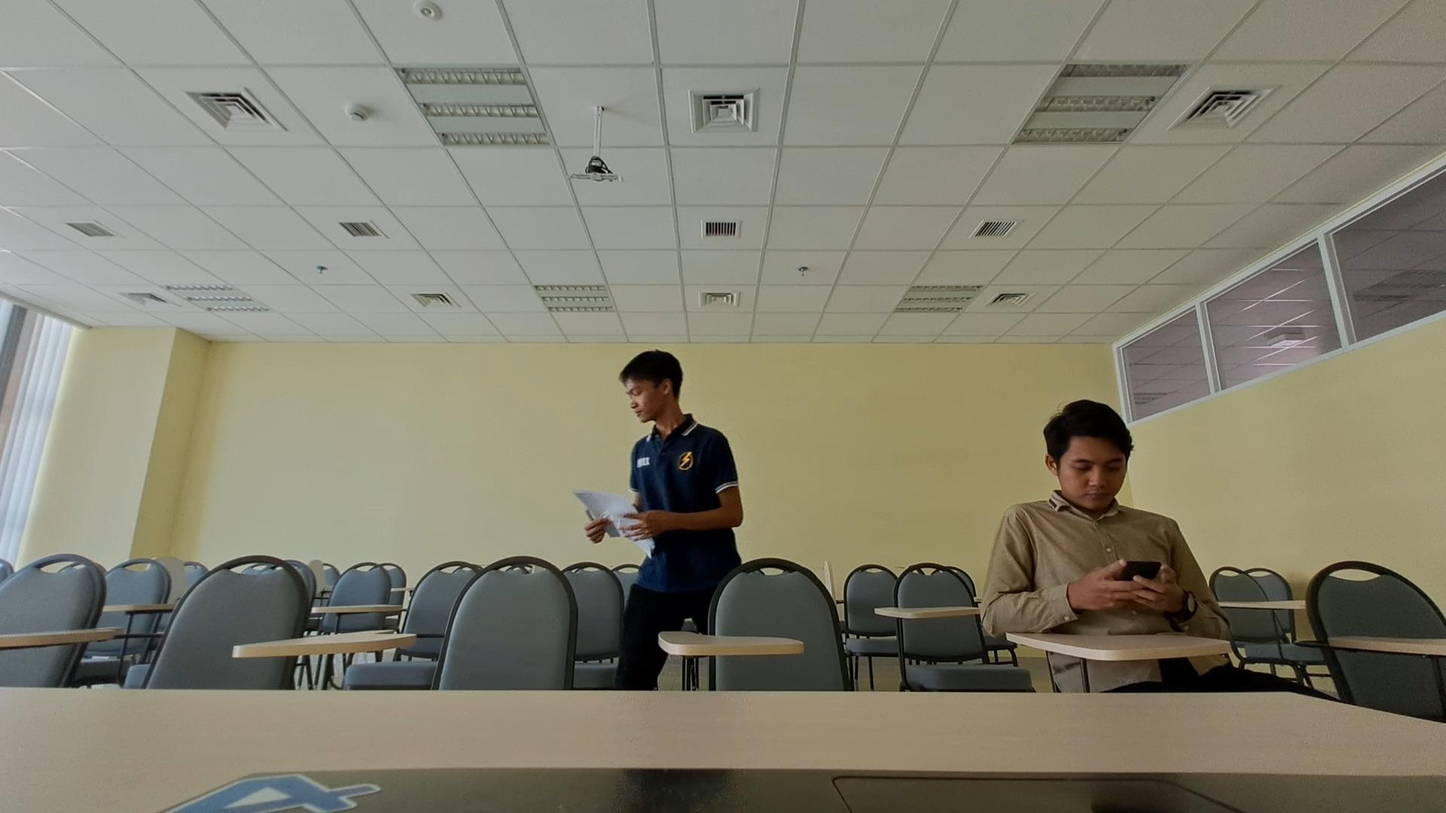phone: (975, 391, 1220, 638)
